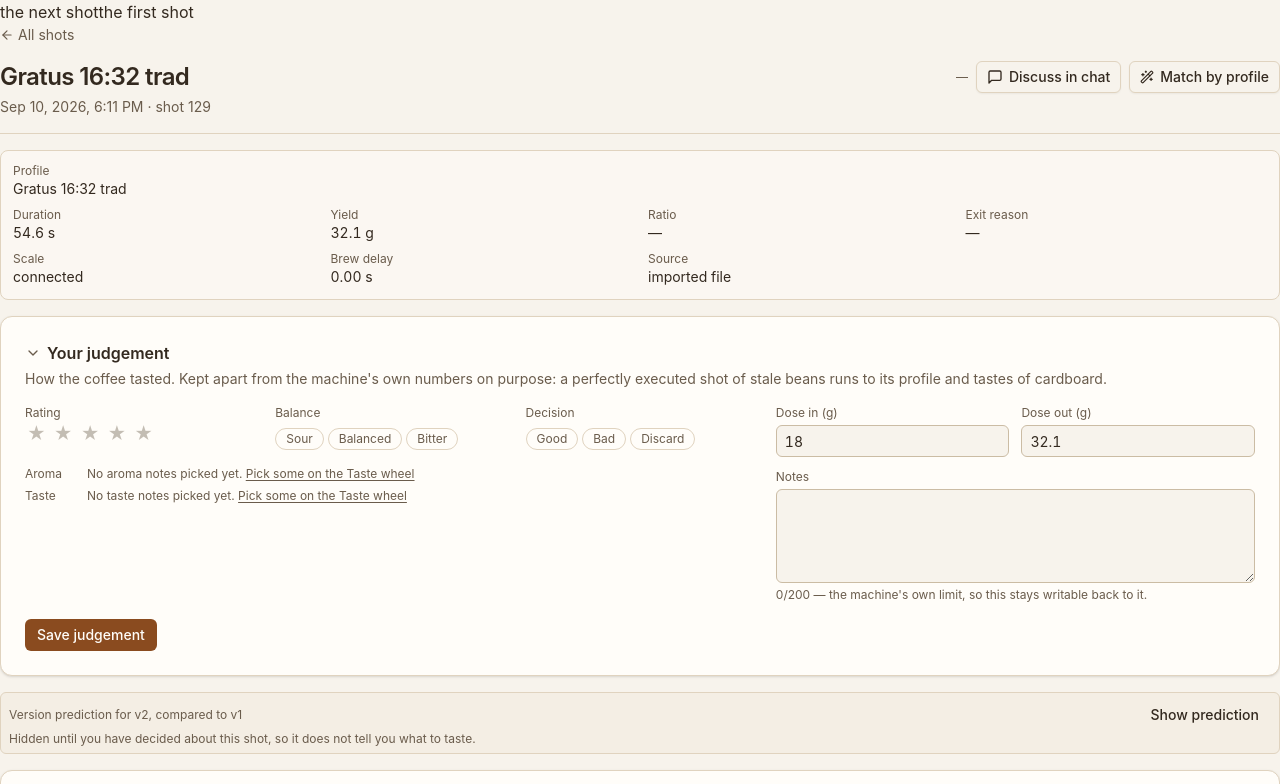
Test: ShotDetailPage version prediction › does not carry a reveal from one shot to another the cache already holds
expect the element with test id "version-prediction-row" is shown: met, box top-left (0, 692), bottom-right (1279, 754)
Click the link "the next shot": point(49, 12) top-left (0, 2), bottom-right (98, 22)
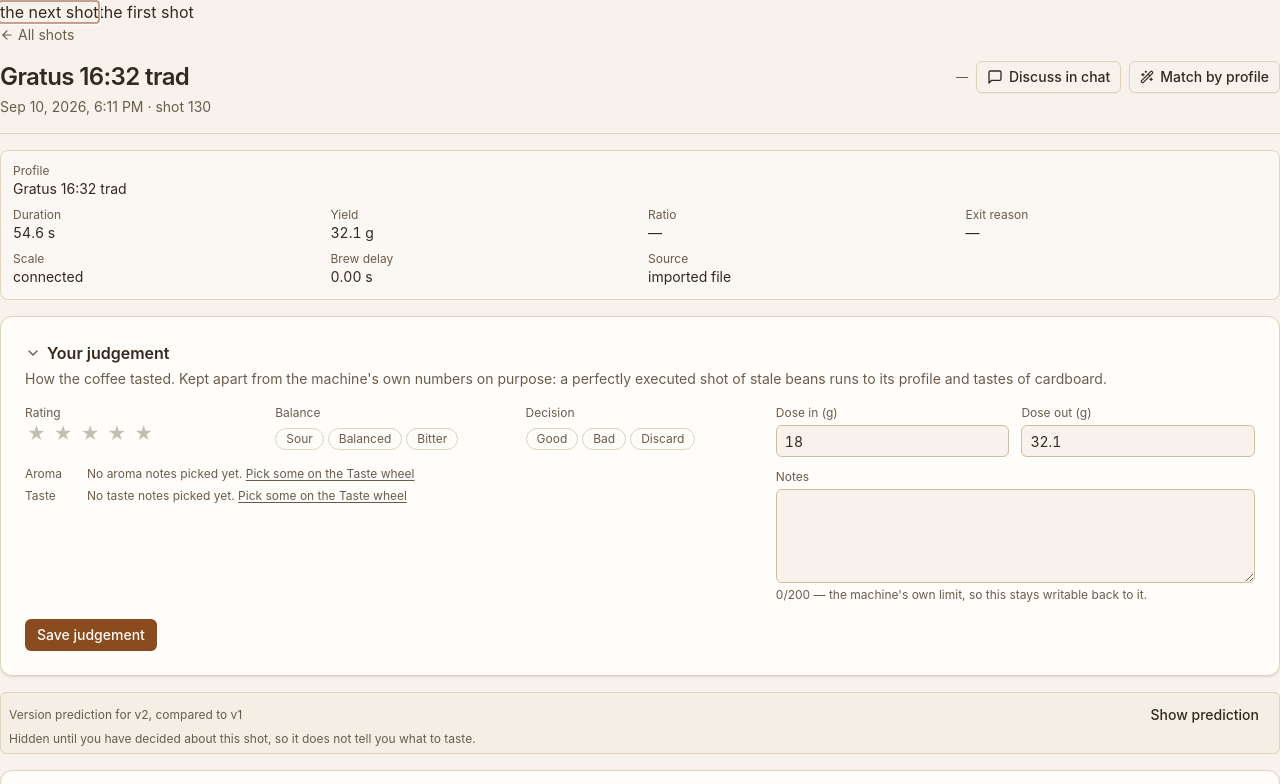
expect the element with test id "version-prediction-row" is shown: met, box top-left (0, 692), bottom-right (1279, 754)
Click the button "Show prediction": point(1205, 715) top-left (1138, 699), bottom-right (1271, 731)
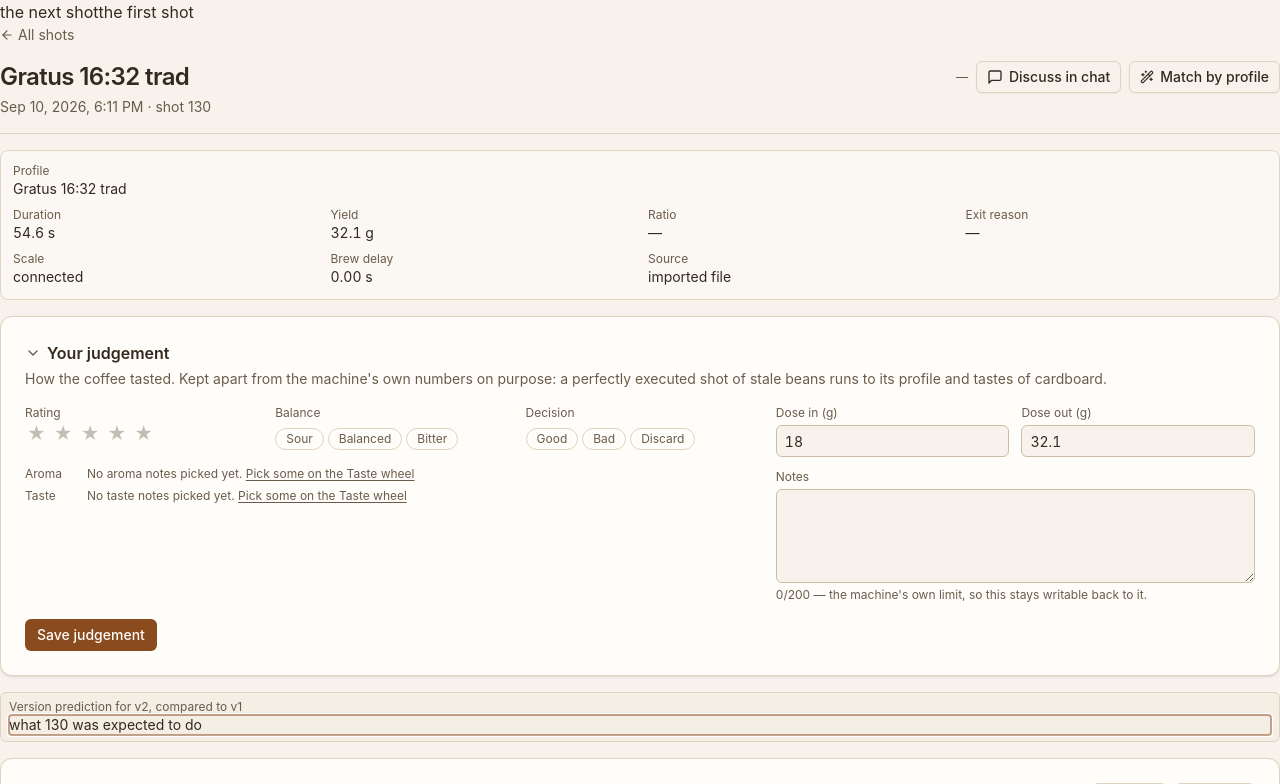
expect the text "what 130 was expected to do" is shown: met, box top-left (9, 716), bottom-right (202, 733)
Click the link "the first shot": point(146, 12) top-left (98, 2), bottom-right (194, 22)
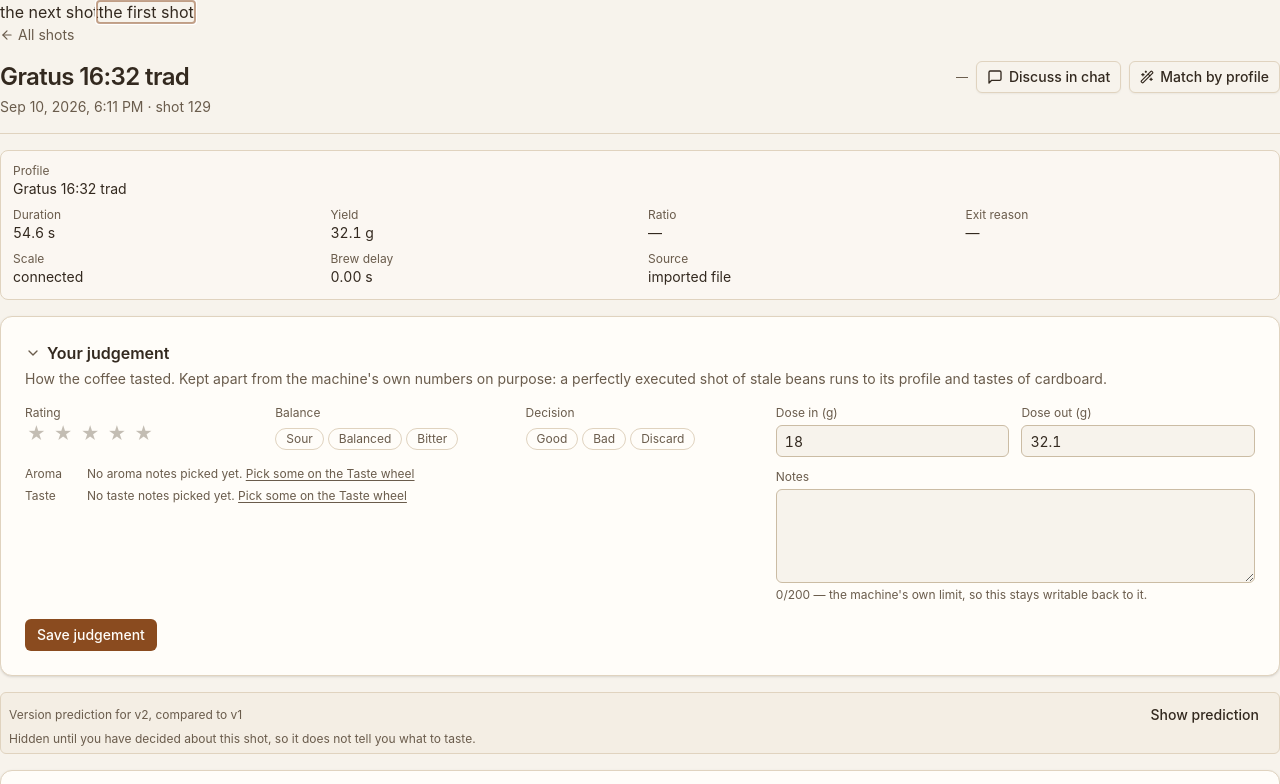
expect the button "Show prediction" is shown: met, box top-left (1138, 699), bottom-right (1271, 731)
